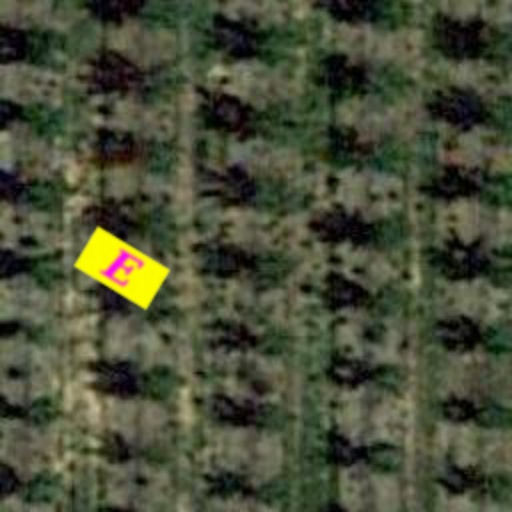rectangle: (62, 208, 182, 328)
